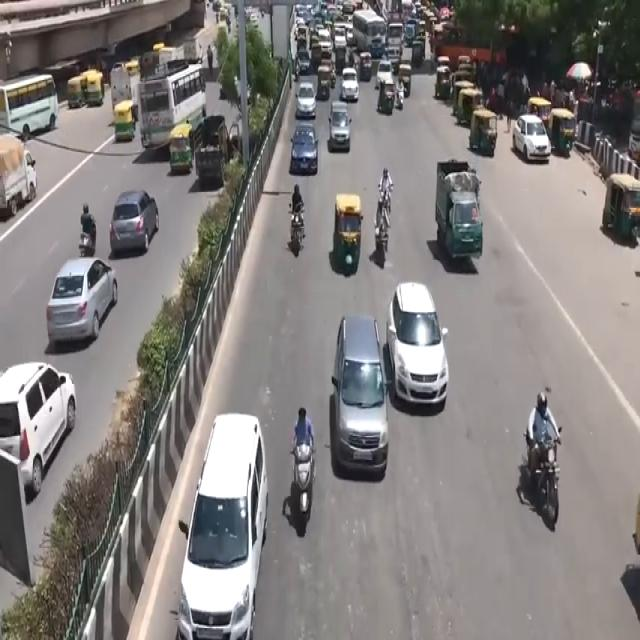BUS: (137, 62, 207, 149), (0, 71, 57, 135)
MOTORCYCLE: (534, 432, 565, 532), (291, 447, 314, 542), (377, 227, 390, 269)
TRUCK: (434, 161, 482, 272), (0, 136, 38, 223)
